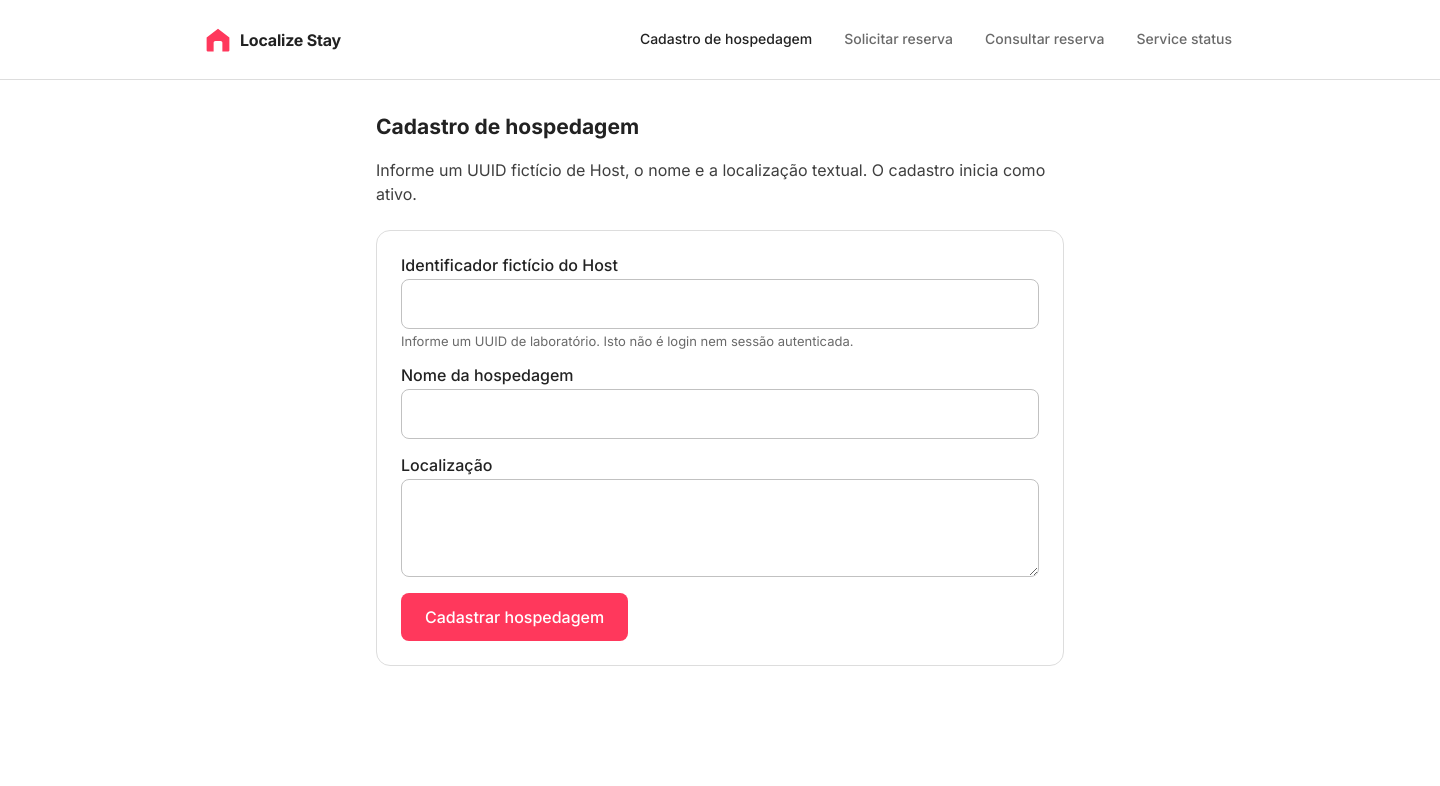
Scenario: PropertyCreate › shows a network failure message, keeps values and allows a manual retry
The width and height of the screenshot is (1440, 786).
Step 1. Type "421ec5d4-3ba2-4d8e-8958-a51dd0711650" into the field labelled "Identificador fictício do Host" → (720, 304), box [401,279,1039,329]
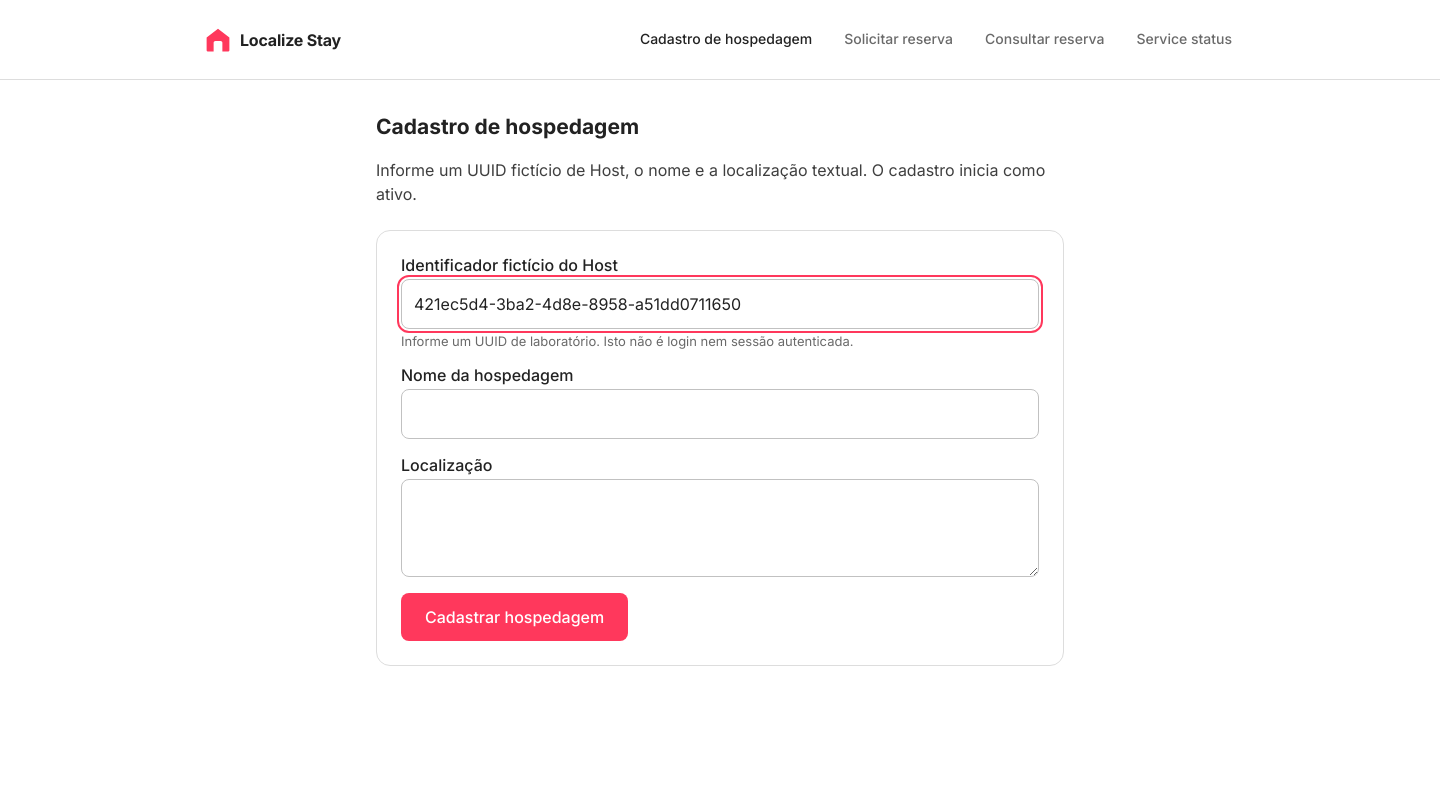
Step 2. Type "Pousada Dunas do Sol" into the field labelled "Nome da hospedagem" → (720, 414), box [401,389,1039,439]
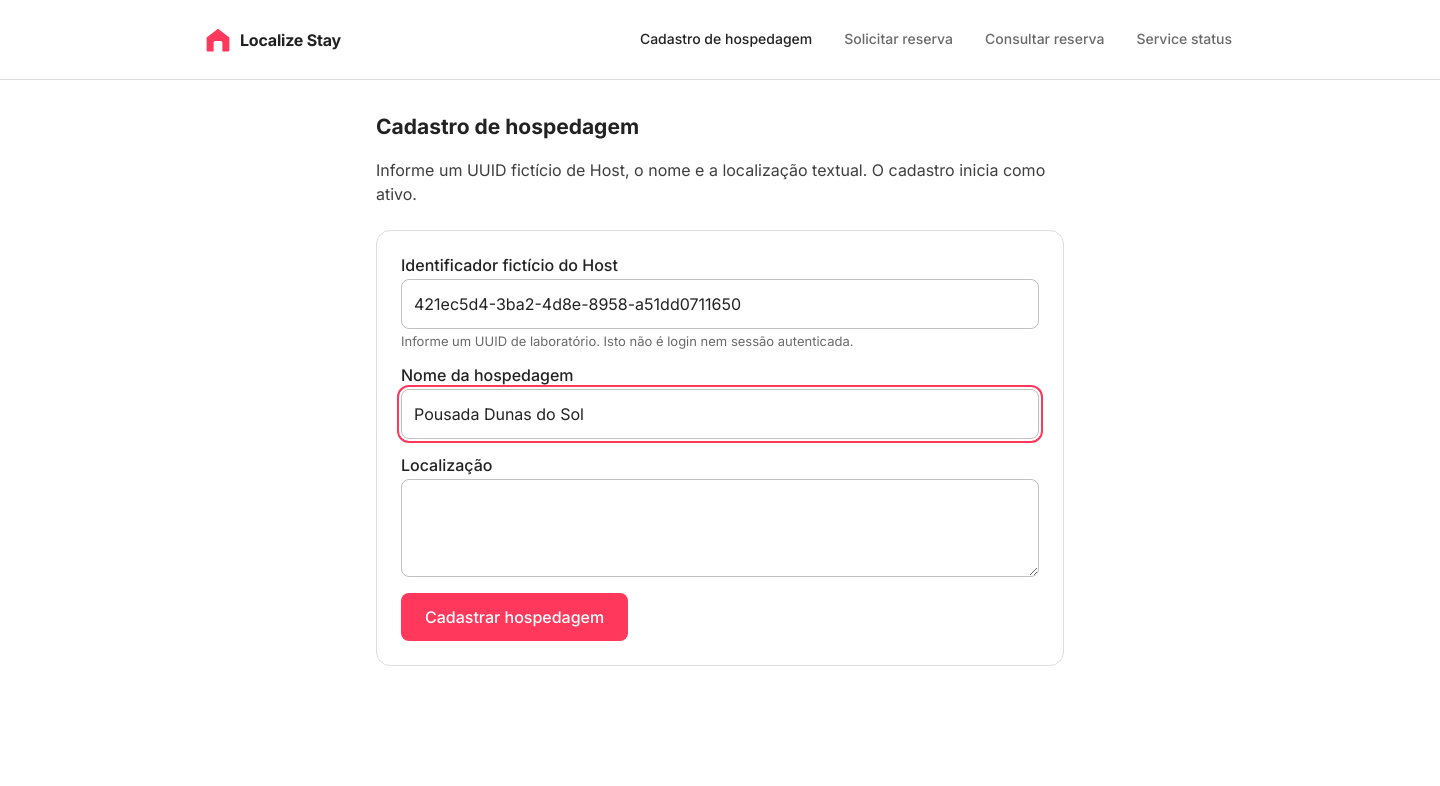
Step 3. Type "Cumbuco, Caucaia - CE" into the text box labelled "Localização" → (720, 528), box [401,479,1039,577]
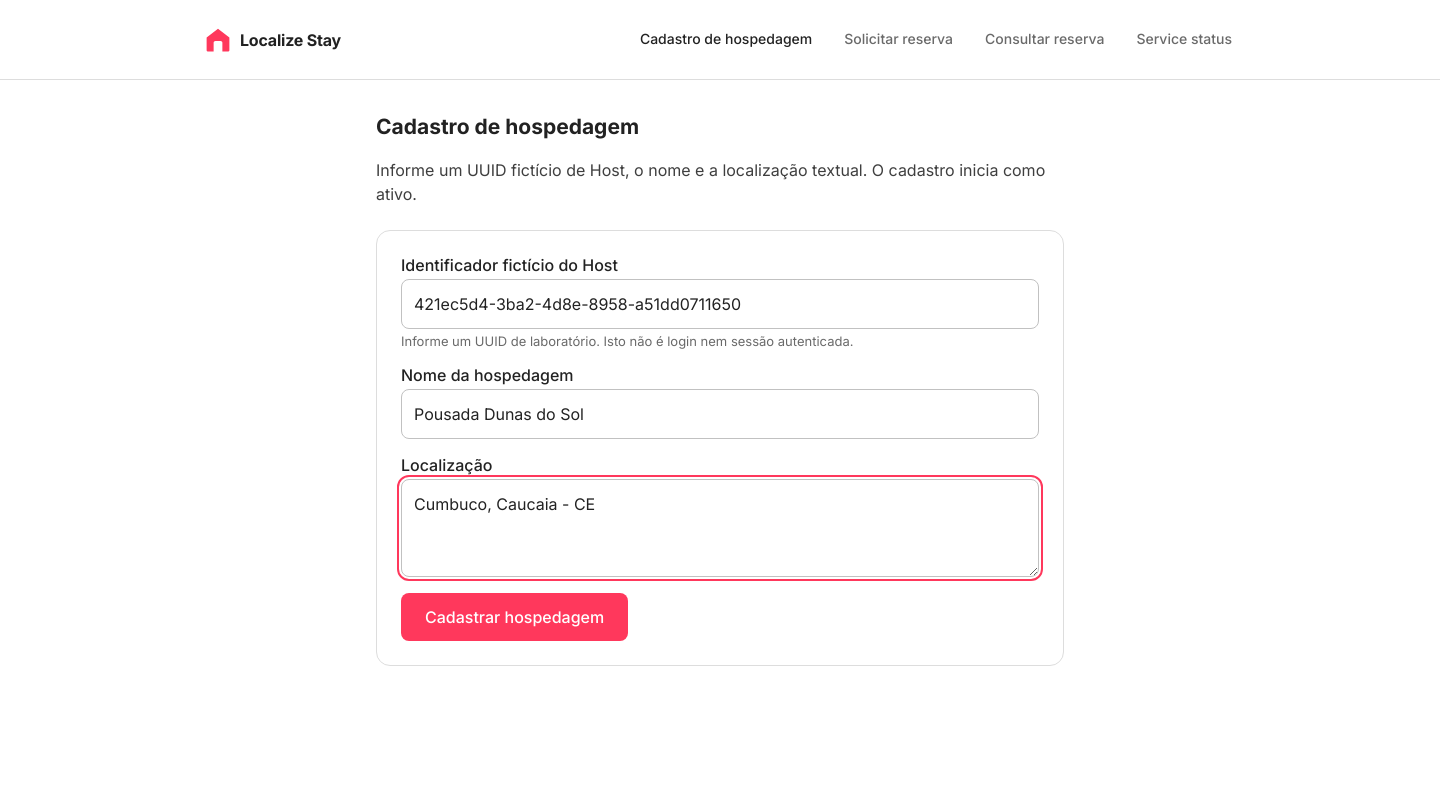
Step 4. Click the button "Cadastrar hospedagem" → (515, 617), box [401,593,628,641]
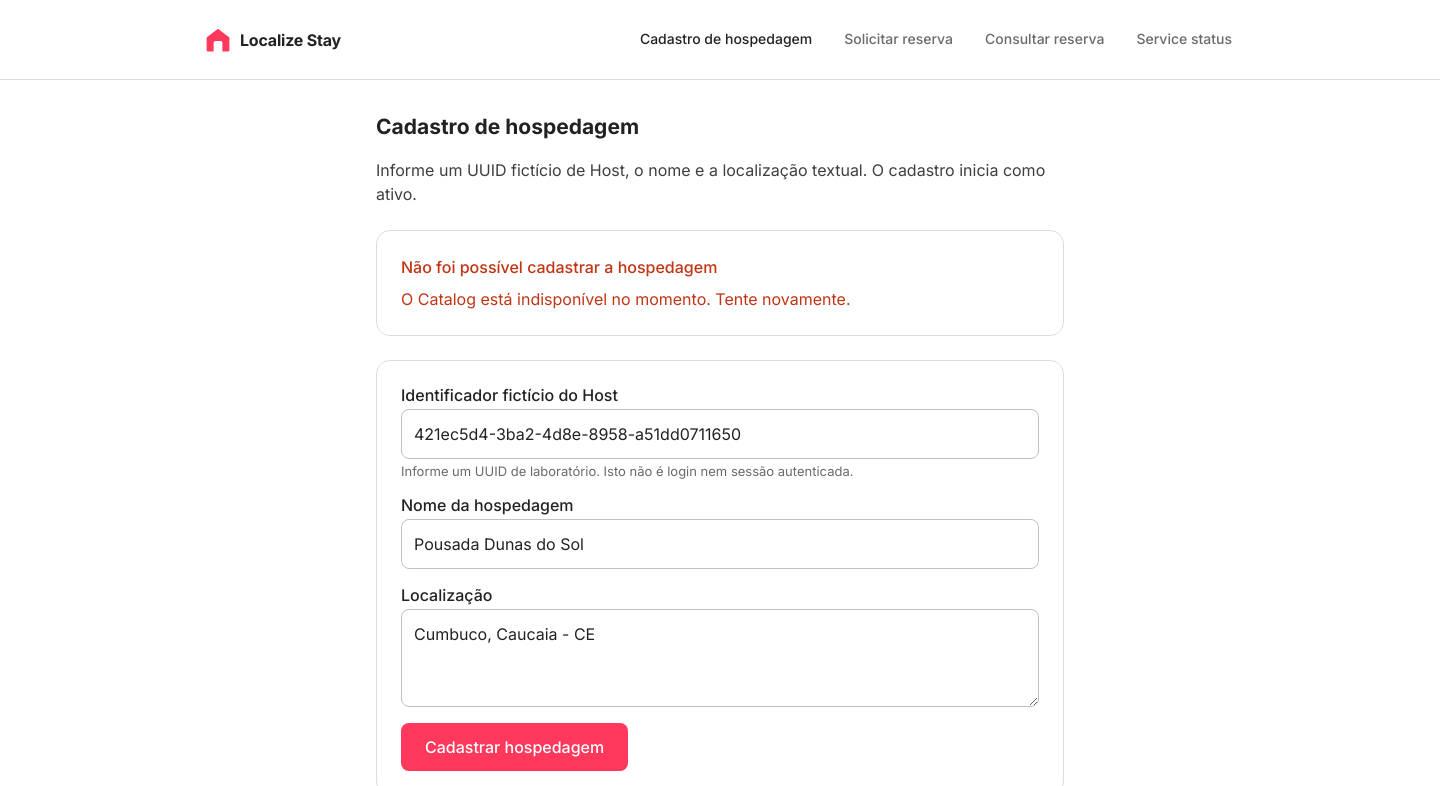
Check: the message shows "O Catalog está indisponível no momento. Tente novamente.", box [401,289,850,309]
Step 5. Click the button "Cadastrar hospedagem" → (515, 747), box [401,723,628,771]
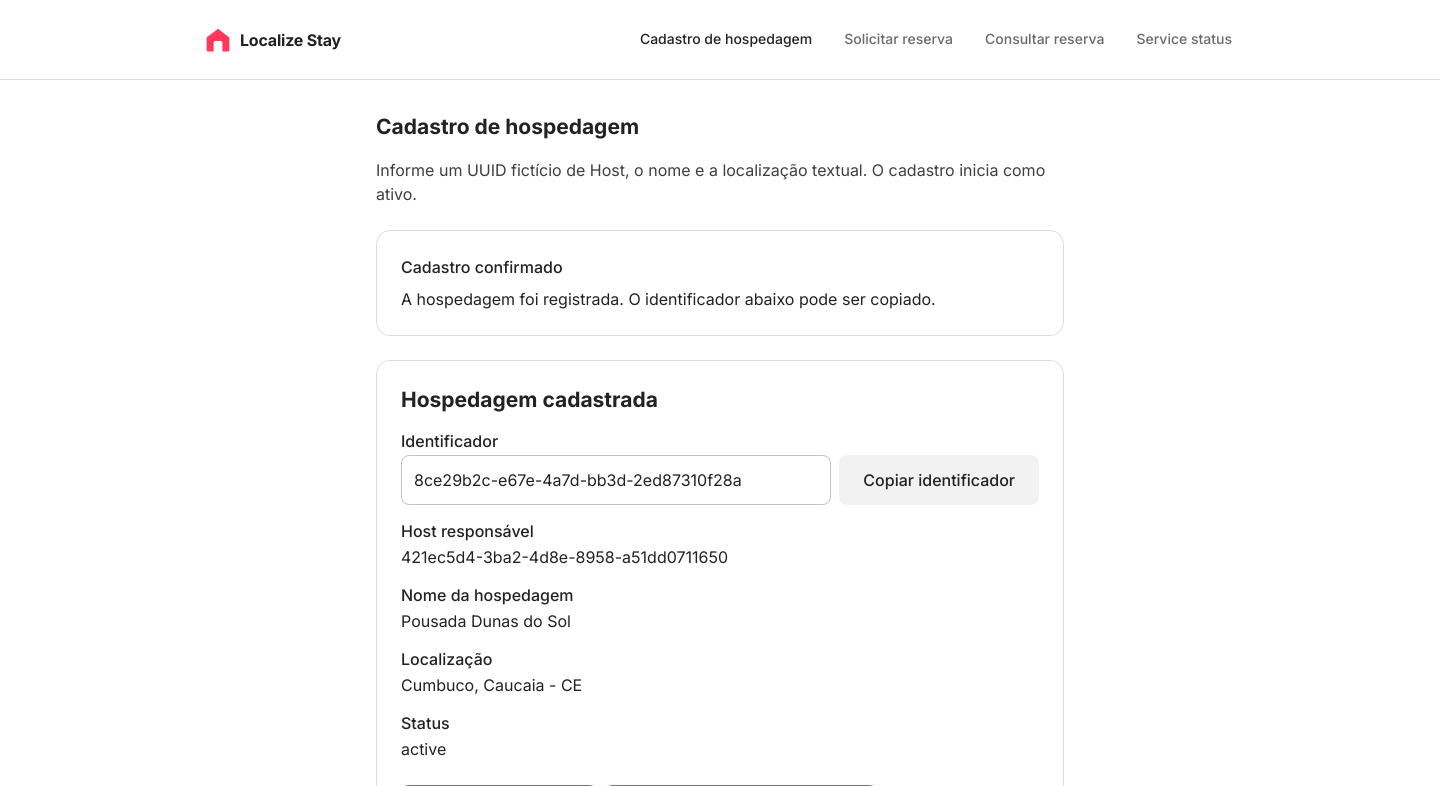
Check: the heading "Hospedagem cadastrada" is shown, box [401,387,658,412]
